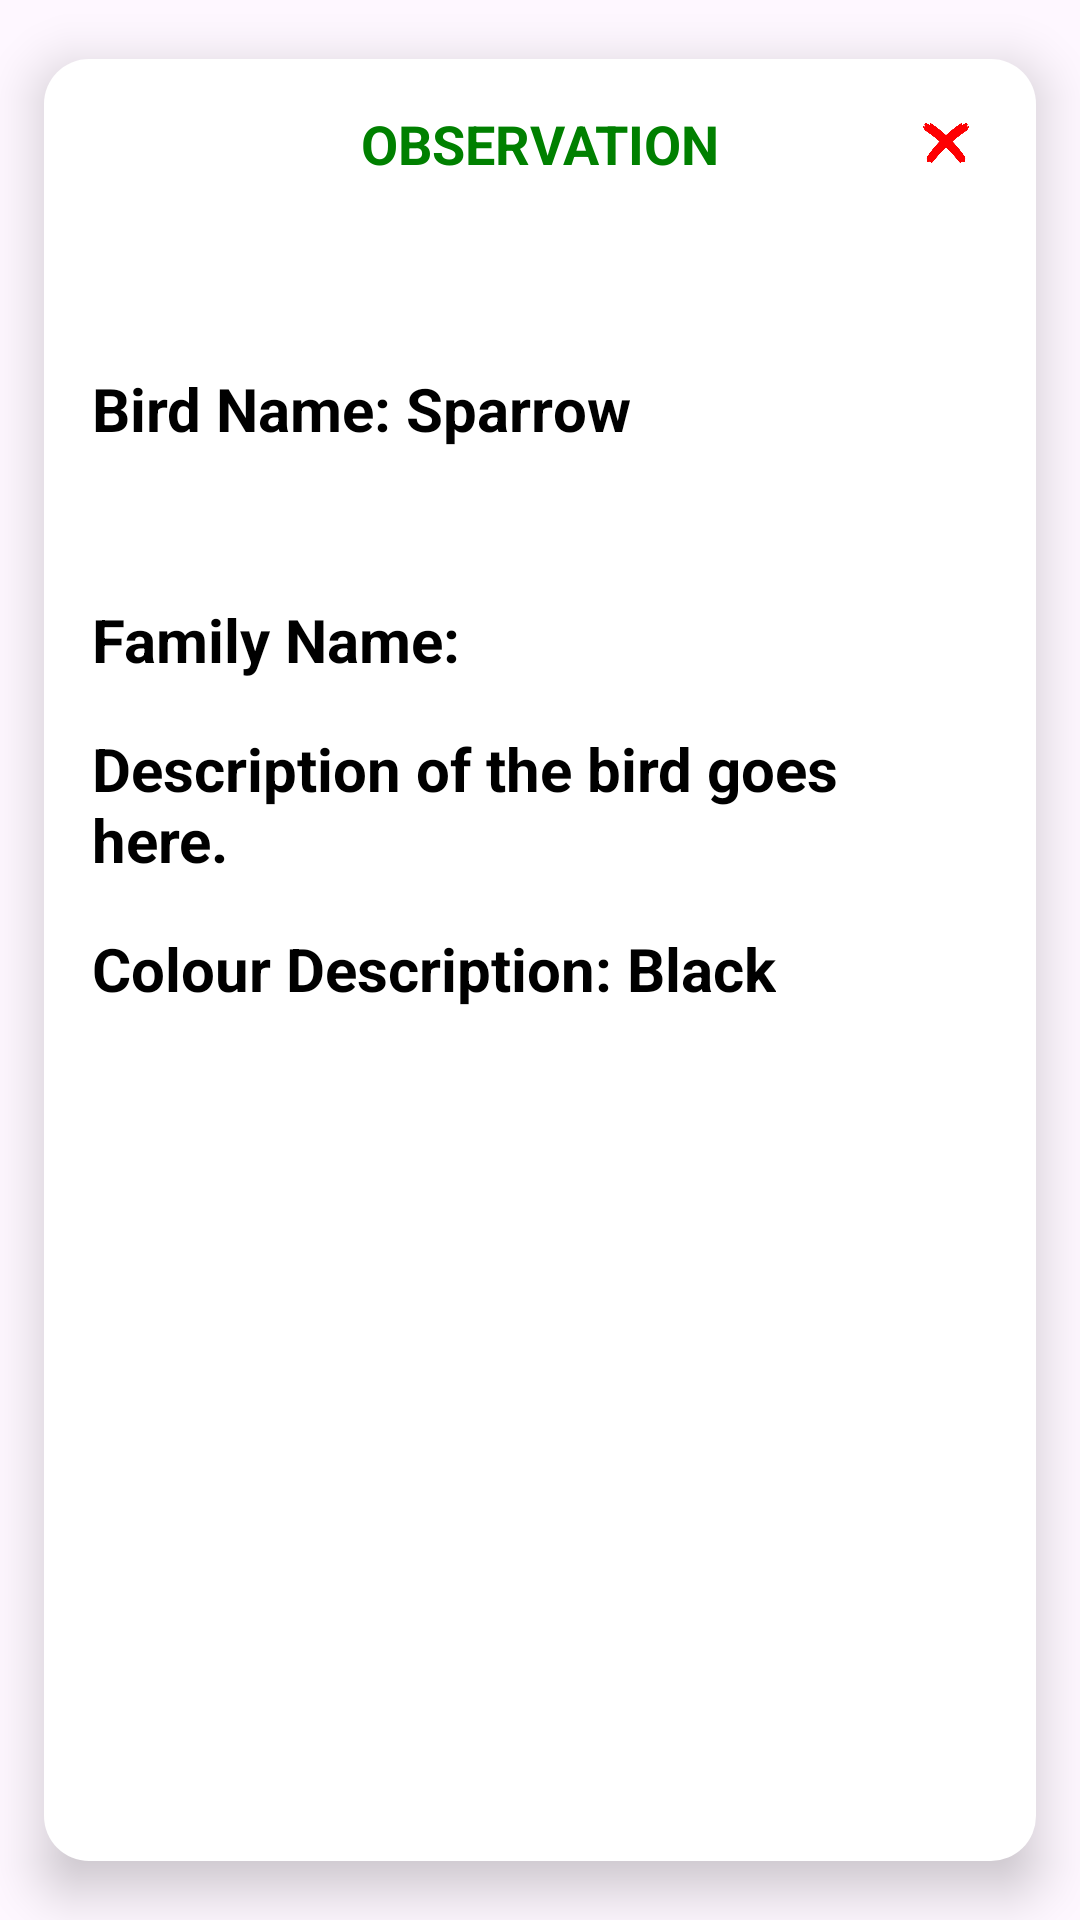

Icon bounding boxes for this 1080*1920 phone screenshot, format bbox=[x1, y1, x2, y2]:
Close Button: bbox=[923, 123, 969, 163]
